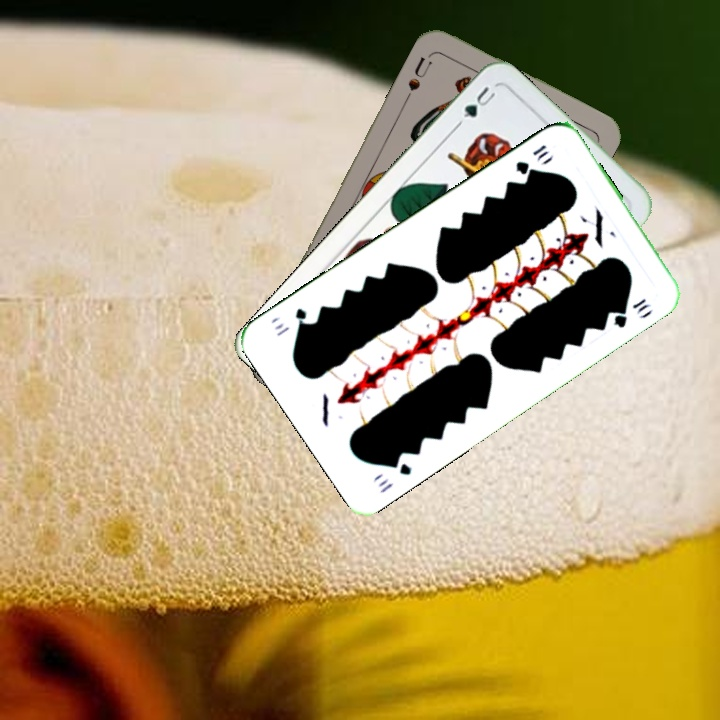G10: (373, 454, 415, 496), (511, 140, 553, 178)
GU: (459, 82, 498, 121)
SU: (401, 48, 436, 103)
